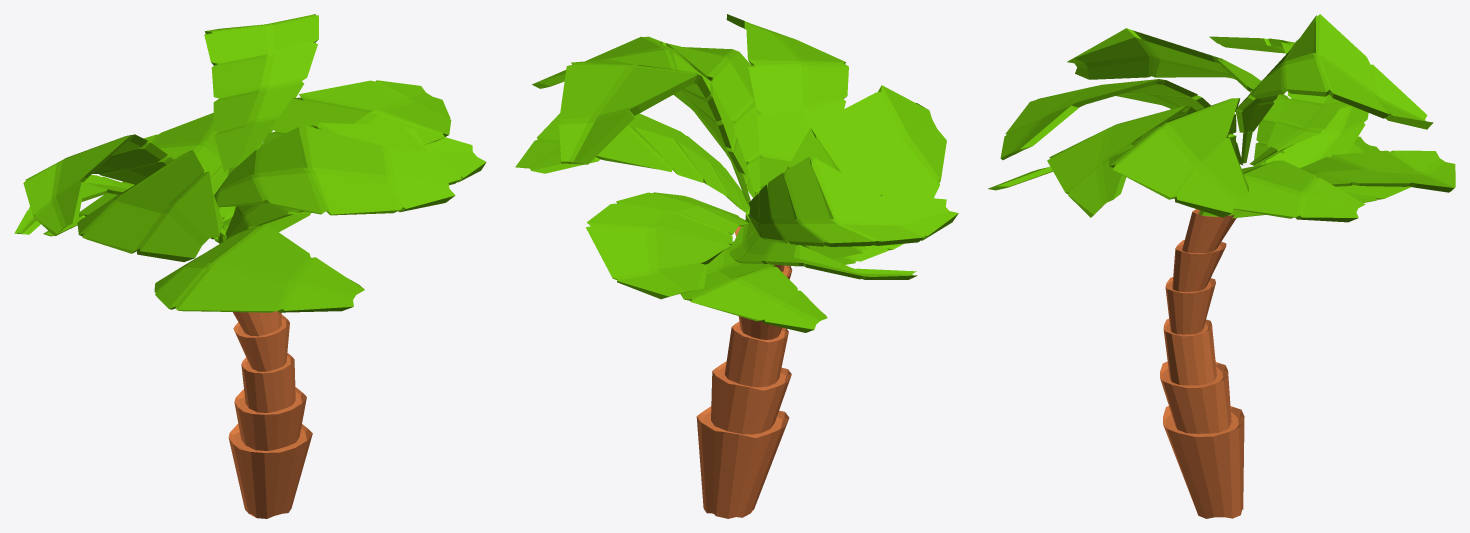
The model's file is BananaTree3.fbx.
The picture shows the model from 3 angles, left to right: view 1: azimuth 30°, elevation 25°; view 2: azimuth 150°, elevation 25°; view 3: azimuth 270°, elevation 25°; orthographic projection. The views are drawn at different scales.
Parts seen in each view (by area): view 1: BananaTree.002; view 2: BananaTree.002; view 3: BananaTree.002.
Part boxes in pixels (x1,y1,x2,y2): BananaTree.002: (14, 14, 486, 518); BananaTree.002: (515, 14, 958, 518); BananaTree.002: (988, 14, 1455, 518).
Bounding box in the file's own units: 605 × 654 × 569.
